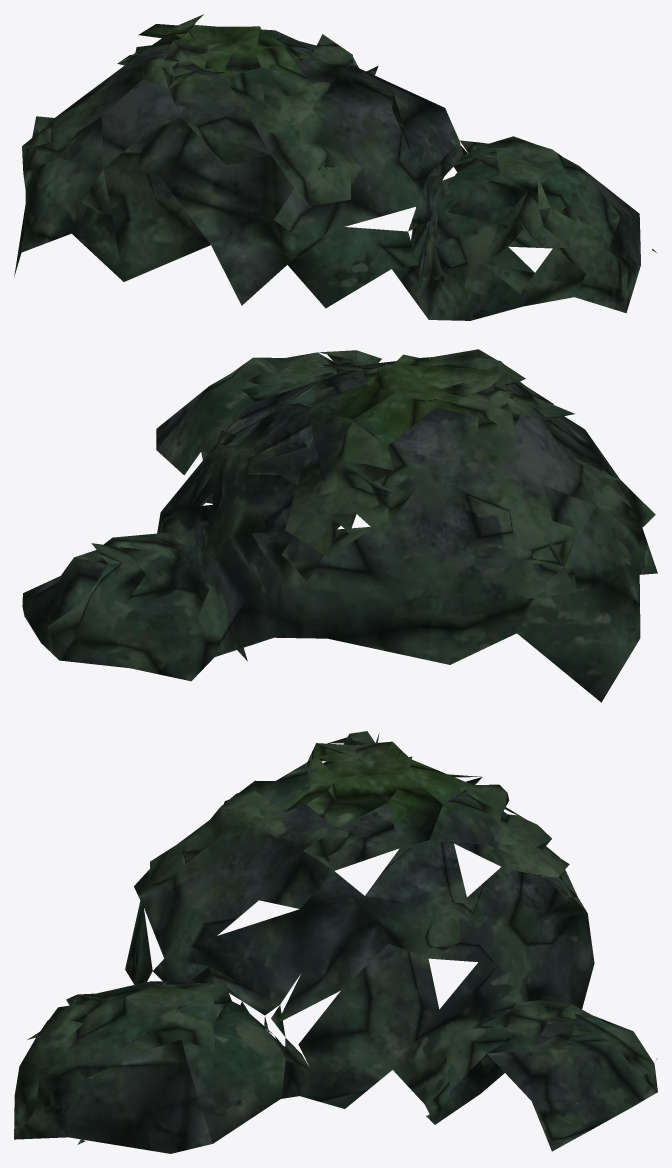
The model's file is swamp-rock-1.glb.
3 renders of one model, top to bottom at view 1: azimuth 30°, elevation 25°; view 2: azimuth 150°, elevation 25°; view 3: azimuth 270°, elevation 25°, orthographic. The views are drawn at different scales.
Visible parts, largest first — view 1: geometry_0; view 2: geometry_0; view 3: geometry_0.
Boxes of the visible parts, x1,y1,x2,y2 form: geometry_0: [14, 14, 657, 320]; geometry_0: [22, 349, 657, 702]; geometry_0: [14, 731, 657, 1153].
Bounding box in the file's own units: 0.9346 × 0.3971 × 0.8972.
1 material, 1 textured.
